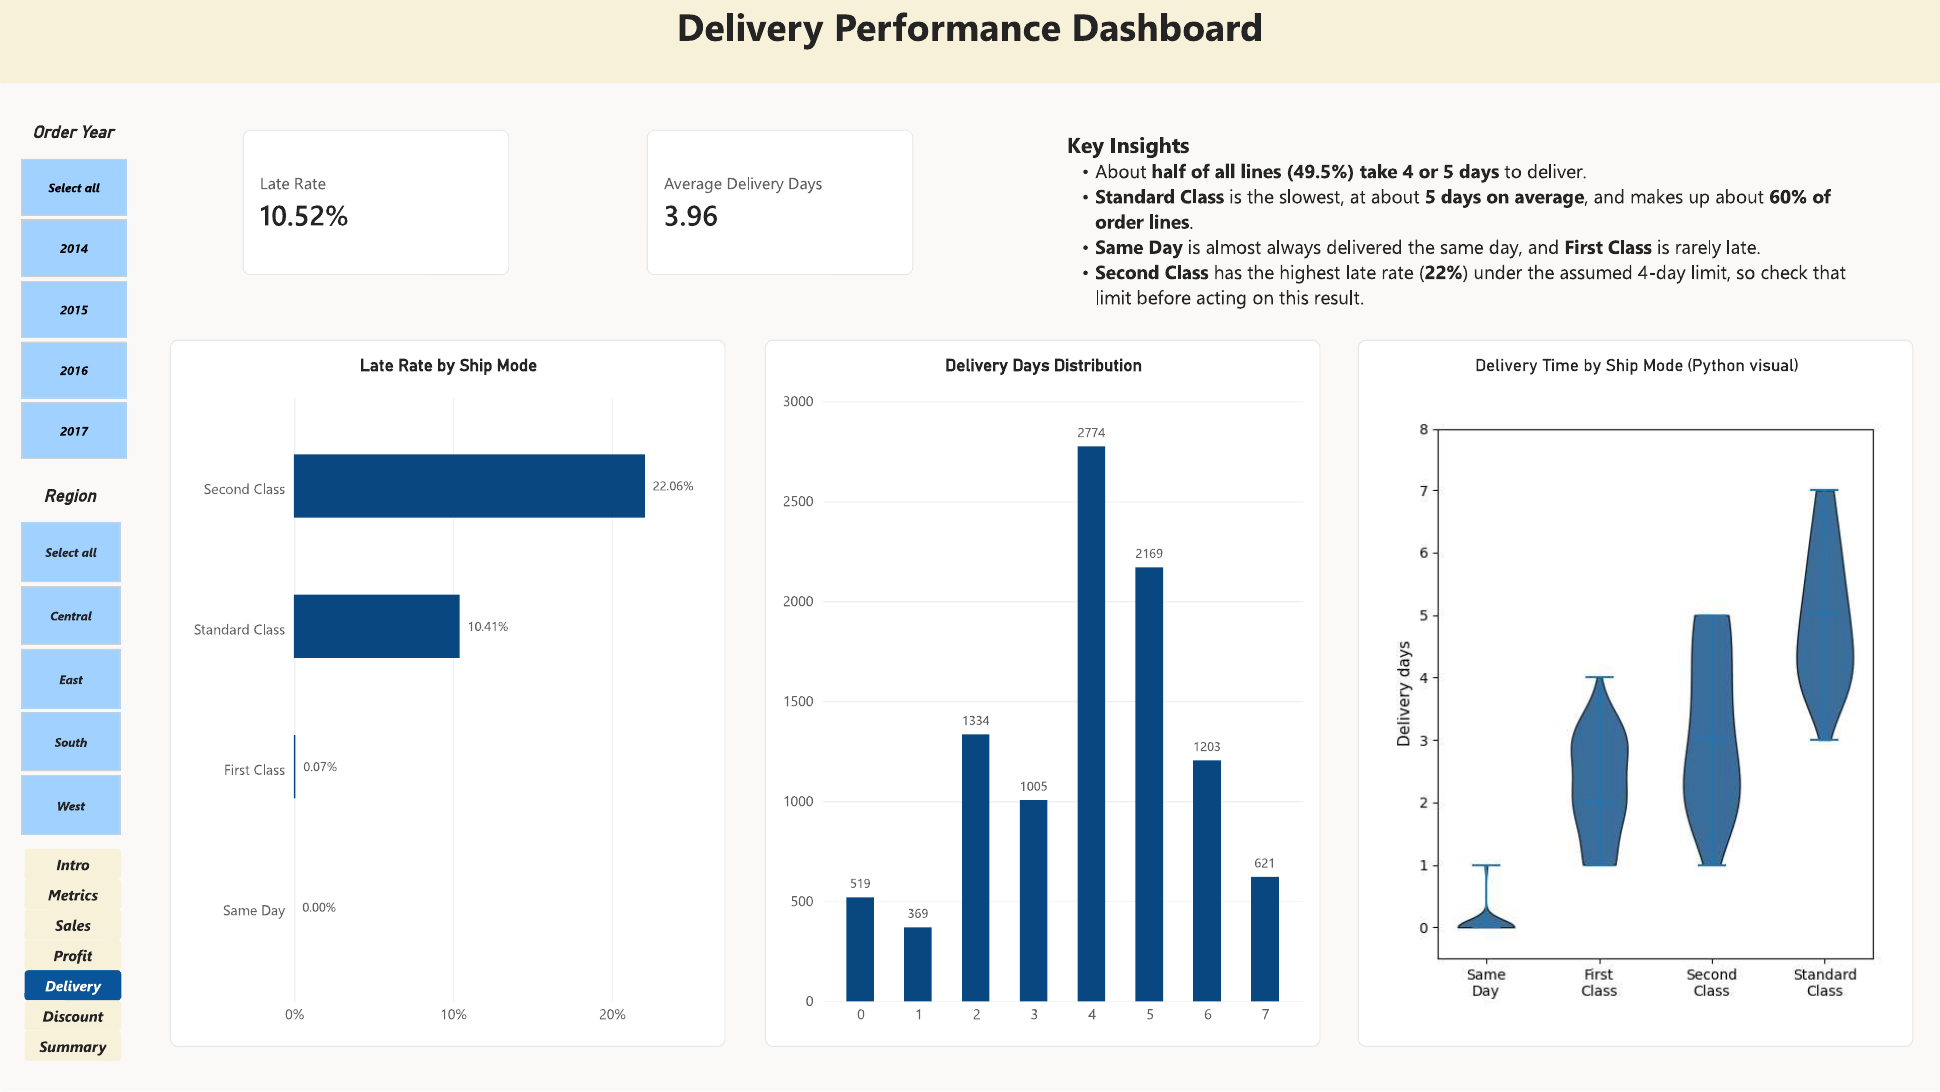

What the dashboard file says about the page in this screenshot:
{"tool":"powerbi","page":{"name":"Delivery","canvas":[1920,1080],"ordinal":4},"visuals":[{"type":"textbox","box":[0,0,1920.4,82.3],"z":0},{"type":"cardVisual","fields":{"Data":["Superstore.Late Rate"]},"box":[240,128,264,144],"z":3000},{"type":"cardVisual","fields":{"Data":["Superstore.Average Delivery Days"]},"box":[640,128,264,144],"z":4000},{"type":"clusteredBarChart","title":"Late Rate by Ship Mode","fields":{"Category":["Superstore.Ship Mode"],"Y":["Superstore.Late Rate"]},"box":[168,336,550,700],"z":5000},{"type":"clusteredColumnChart","title":"Delivery Days Distribution","fields":{"Category":["Superstore.DeliveryDays"],"Y":["Superstore.Order Lines"]},"box":[756.6,336,550,700],"z":6000},{"type":"textbox","box":[1056,128,800,192],"z":7000},{"type":"pythonVisual","title":"Delivery Time by Ship Mode (Python visual)","fields":{"Values":["Superstore.Ship Mode","Superstore.DeliveryDays","Superstore.Row ID"]},"box":[1344,336,550,700],"z":7001},{"type":"pageNavigator","box":[24,840,96,216],"z":7002},{"type":"slicer","title":"Order Year","fields":{"Values":["Superstore.OrderYear"]},"box":[0,120,144,336],"z":7003},{"type":"slicer","title":"Region","fields":{"Values":["Superstore.Region"]},"box":[0,480,137.9,347.9],"z":7004}]}

Visuals, with their boxes on the page's 1920x1080 design canvas (x1, y1, x2, y2). These are canvas units, not pixel positions in the 1940x1092 screenshot, which may show the page scaled, cropped or inside an application window:
textbox: (x1=0, y1=0, x2=1920, y2=82)
cardVisual - Superstore.Late Rate: (x1=240, y1=128, x2=504, y2=272)
cardVisual - Superstore.Average Delivery Days: (x1=640, y1=128, x2=904, y2=272)
"Late Rate by Ship Mode" clusteredBarChart: (x1=168, y1=336, x2=718, y2=1036)
"Delivery Days Distribution" clusteredColumnChart: (x1=757, y1=336, x2=1307, y2=1036)
textbox: (x1=1056, y1=128, x2=1856, y2=320)
"Delivery Time by Ship Mode (Python visual)" pythonVisual: (x1=1344, y1=336, x2=1894, y2=1036)
pageNavigator: (x1=24, y1=840, x2=120, y2=1056)
"Order Year" slicer: (x1=0, y1=120, x2=144, y2=456)
"Region" slicer: (x1=0, y1=480, x2=138, y2=828)
